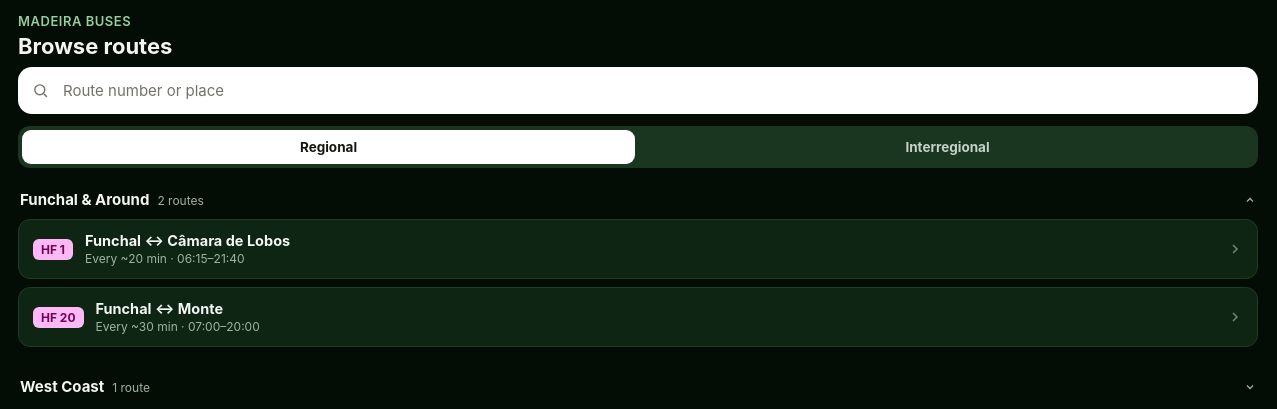
BrowseScreen › collapses a region on tap
Click the button "Funchal & Around 2 routes" at (85,200), box left=18, top=180, right=1258, bottom=219
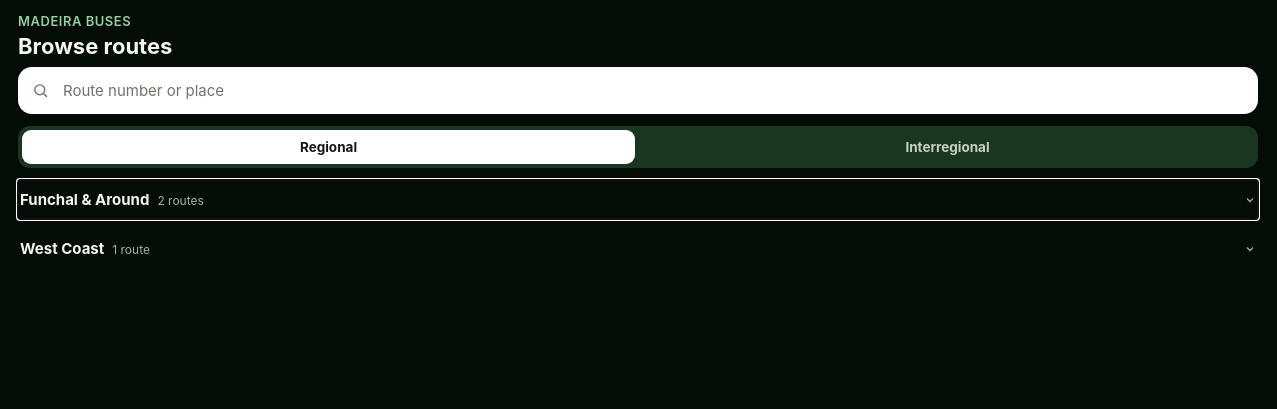
Expected: the button "Funchal ↔ Câmara de Lobos" is gone
